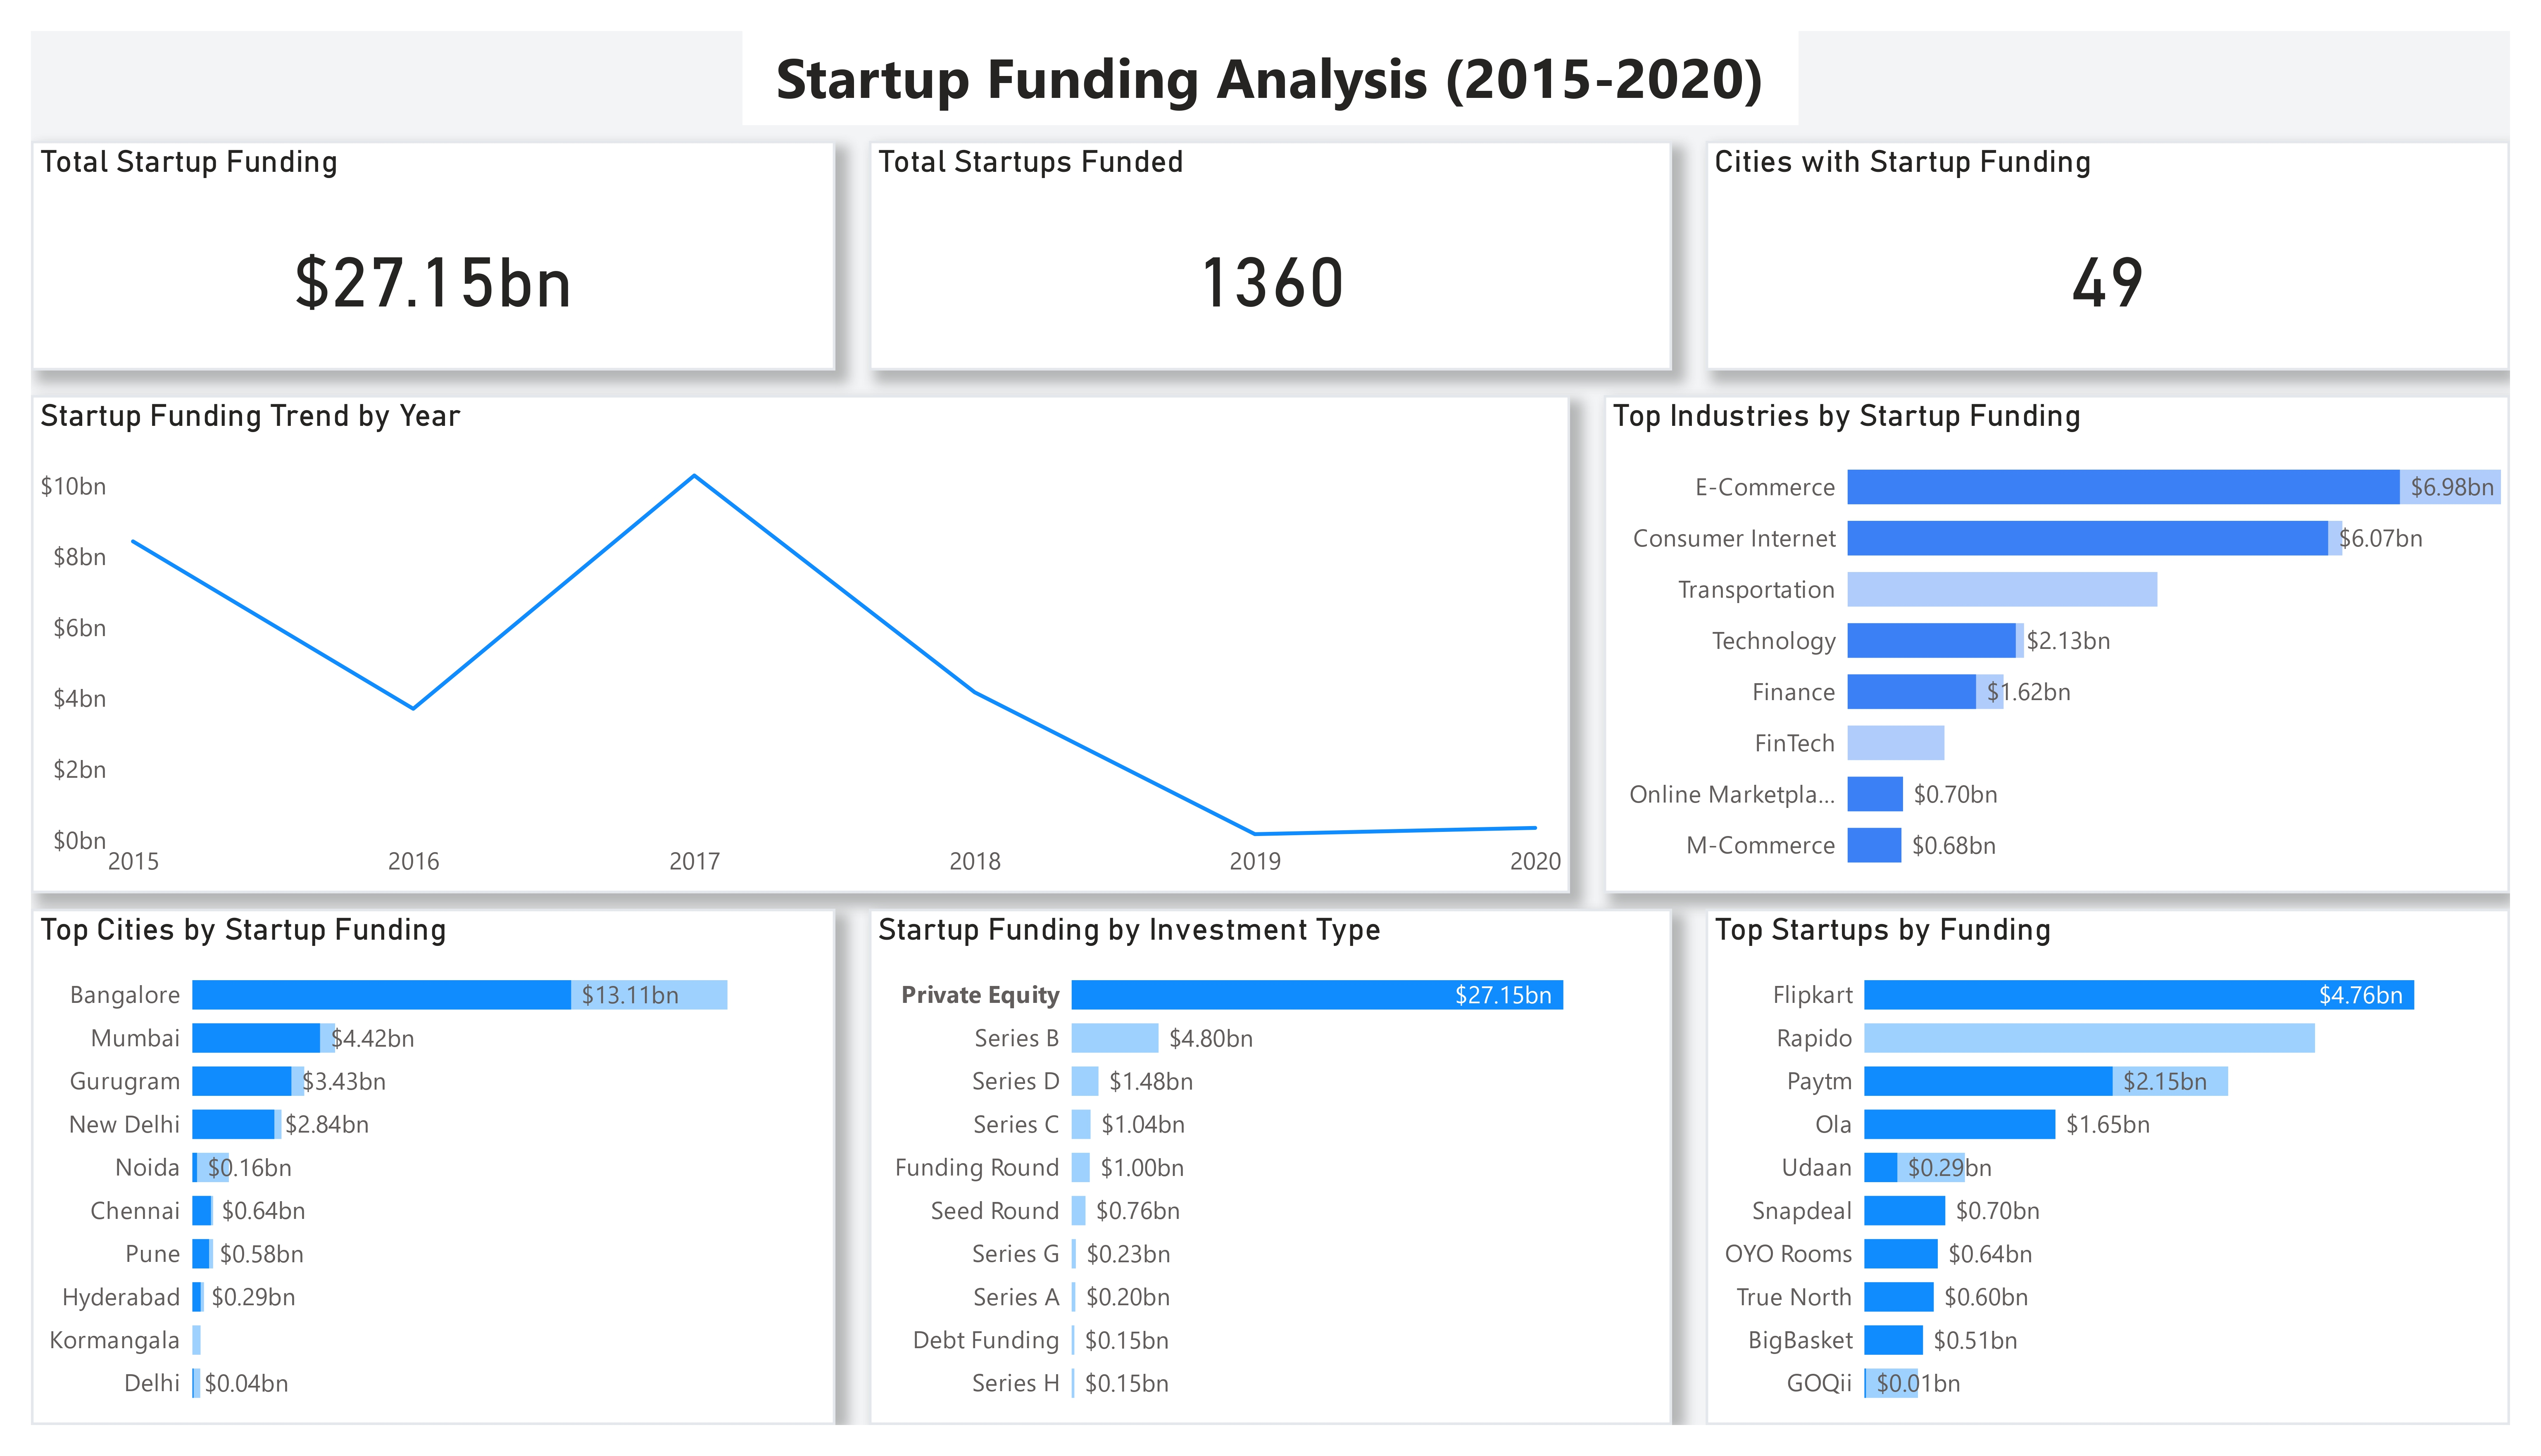

This screenshot's page, from the dashboard's own definition file:
{"tool":"powerbi","page":{"name":"Page 1","canvas":[1920,1080],"ordinal":0},"visuals":[{"type":"lineChart","title":"Startup Funding Trend by Year","fields":{"Category":["startup_funding.Date dd/mm/yyyy.Variation.Date Hierarchy.Year","startup_funding.Date dd/mm/yyyy.Variation.Date Hierarchy.Quarter","startup_funding.Date dd/mm/yyyy.Variation.Date Hierarchy.Month","startup_funding.Date dd/mm/yyyy.Variation.Date Hierarchy.Day"],"Y":["Sum(startup_funding.Amount in USD)"]},"box":[0,281.9,1192,385.9],"z":0},{"type":"clusteredBarChart","title":"Top Cities by Startup Funding","fields":{"Y":["Sum(startup_funding.Amount in USD)"],"Category":["startup_funding.City  Location"]},"box":[0,679.9,623,399.8],"z":1000},{"type":"clusteredBarChart","title":"Top Industries by Startup Funding","fields":{"Y":["Sum(startup_funding.Amount in USD)"],"Category":["startup_funding.Industry Vertical"]},"box":[1218.2,281.6,701.8,386.6],"z":2000},{"type":"clusteredBarChart","title":"Startup Funding by Investment Type","fields":{"Y":["Sum(startup_funding.Amount in USD)"],"Category":["startup_funding.InvestmentnType"]},"box":[648.5,679.9,623,399.8],"z":3000},{"type":"clusteredBarChart","title":"Top Startups by Funding","fields":{"Y":["Sum(startup_funding.Amount in USD)"],"Category":["startup_funding.Startup Name"]},"box":[1297,679.9,623,399.8],"z":4000},{"type":"textbox","box":[551.5,0,817,72.9],"z":5000},{"type":"card","title":"Total Startup Funding","fields":{"Values":["Sum(startup_funding.Amount in USD)"]},"box":[0,84.6,623,178],"z":6000},{"type":"card","title":"Total Startups Funded","fields":{"Values":["CountNonNull(startup_funding.Startup Name)"]},"box":[648.5,84.6,623,178],"z":7000},{"type":"card","title":"Cities with Startup Funding","fields":{"Values":["Count(startup_funding.City  Location)"]},"box":[1297,84.6,623,178],"z":8000}]}

Visuals, with their boxes on the page's 1920x1080 design canvas (x1, y1, x2, y2). These are canvas units, not pixel positions in the 2541x1456 screenshot, which may show the page scaled, cropped or inside an application window:
"Startup Funding Trend by Year" lineChart: [x1=0, y1=282, x2=1192, y2=668]
"Top Cities by Startup Funding" clusteredBarChart: [x1=0, y1=680, x2=623, y2=1080]
"Top Industries by Startup Funding" clusteredBarChart: [x1=1218, y1=282, x2=1920, y2=668]
"Startup Funding by Investment Type" clusteredBarChart: [x1=648, y1=680, x2=1272, y2=1080]
"Top Startups by Funding" clusteredBarChart: [x1=1297, y1=680, x2=1920, y2=1080]
textbox: [x1=552, y1=0, x2=1368, y2=73]
"Total Startup Funding" card: [x1=0, y1=85, x2=623, y2=263]
"Total Startups Funded" card: [x1=648, y1=85, x2=1272, y2=263]
"Cities with Startup Funding" card: [x1=1297, y1=85, x2=1920, y2=263]
